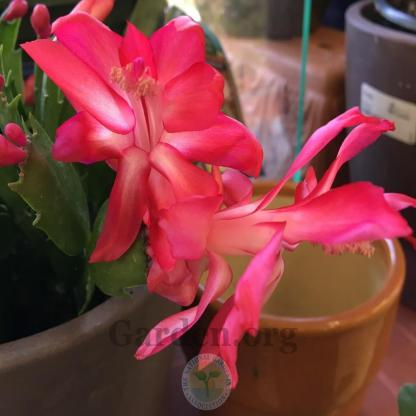Aglonema: (33, 51, 368, 283)
